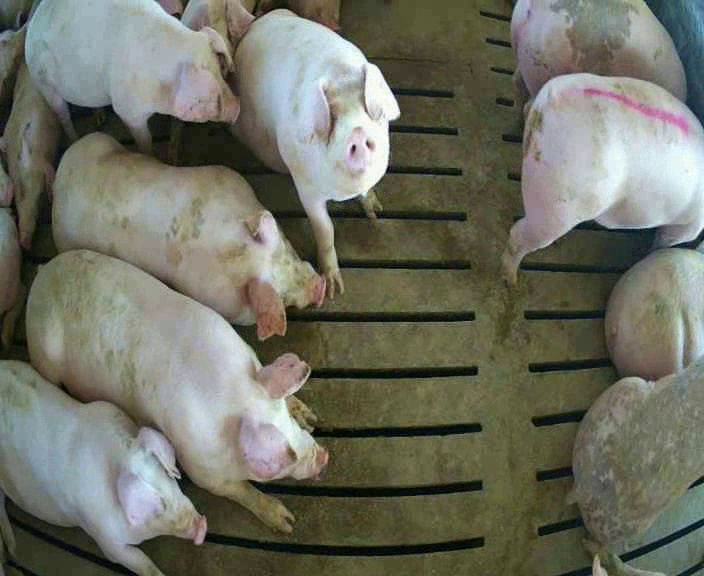pig: (27, 250, 326, 531), (53, 133, 324, 339), (233, 9, 399, 298), (502, 73, 703, 284), (25, 2, 238, 151), (570, 357, 703, 544), (511, 2, 685, 100), (605, 249, 703, 379), (3, 62, 60, 248)
